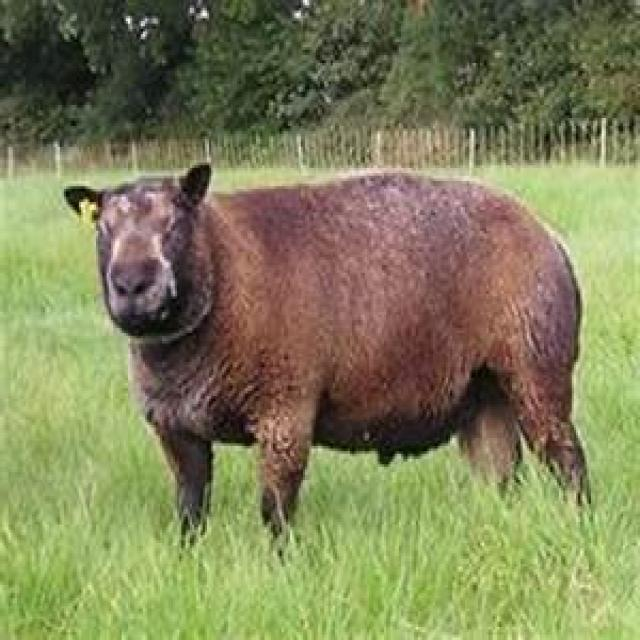animal: (64, 161, 595, 558)
